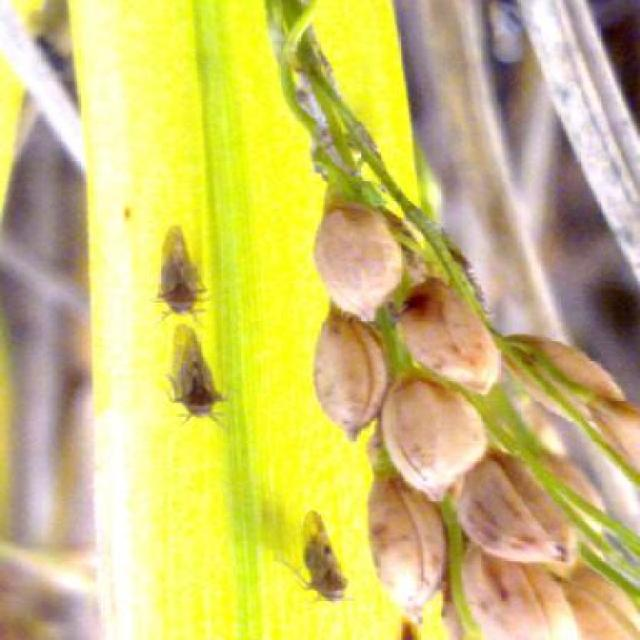brown-planthopper: (284, 510, 356, 608), (162, 326, 232, 425), (149, 219, 213, 316)
